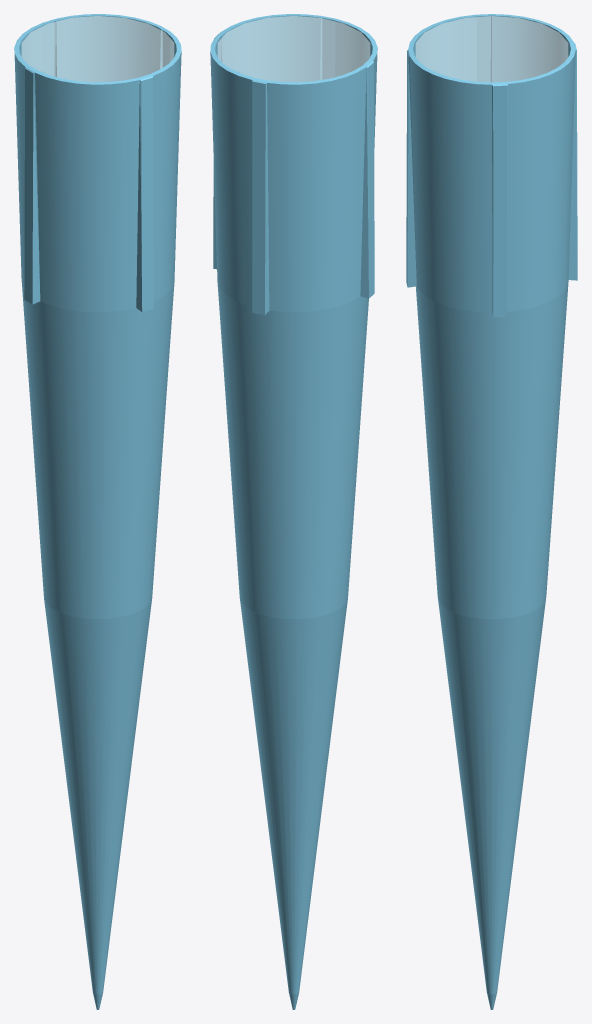
File: tip1000.glb
3 renders of one model, left to right at view 1: azimuth 30°, elevation 25°; view 2: azimuth 150°, elevation 25°; view 3: azimuth 270°, elevation 25°, orthographic.
Parts seen in each view (by area): view 1: surface, liquid; view 2: surface, liquid; view 3: surface, liquid.
Part boxes in pixels (x1=…): surface: x1=14, y1=14, x2=181, y2=1009; liquid: x1=22, y1=16, x2=173, y2=81; surface: x1=210, y1=14, x2=377, y2=1009; liquid: x1=218, y1=16, x2=369, y2=81; surface: x1=406, y1=14, x2=577, y2=1009; liquid: x1=416, y1=16, x2=567, y2=81.
Size of the model in its own units: 1.14 by 7.02 by 1.14.
